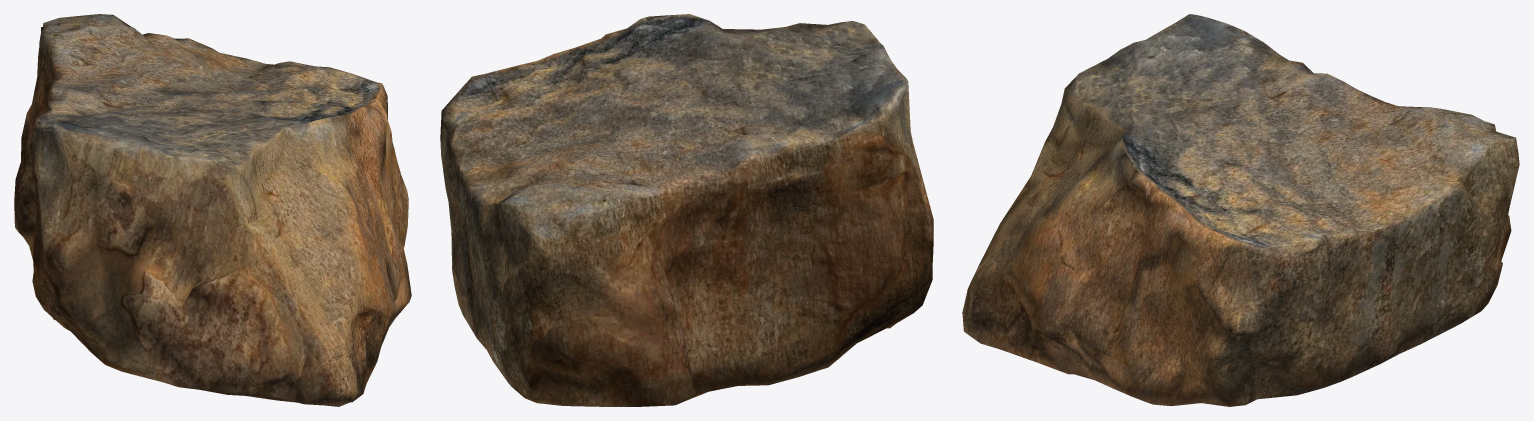
File: boulder_b.glb
The picture shows the model from 3 angles, left to right: view 1: azimuth 30°, elevation 25°; view 2: azimuth 150°, elevation 25°; view 3: azimuth 270°, elevation 25°; orthographic projection. The views are drawn at different scales.
Parts seen in each view (by area): view 1: boulder_03_LOD0; view 2: boulder_03_LOD0; view 3: boulder_03_LOD0.
Part boxes in pixels (x1,y1,x2,y2): boulder_03_LOD0: (14,14,411,406); boulder_03_LOD0: (440,14,933,406); boulder_03_LOD0: (962,14,1519,406).
Bounding box in the file's own units: 2.4 × 1.47 × 3.06.
Materials: 1 (1 with a texture image).
